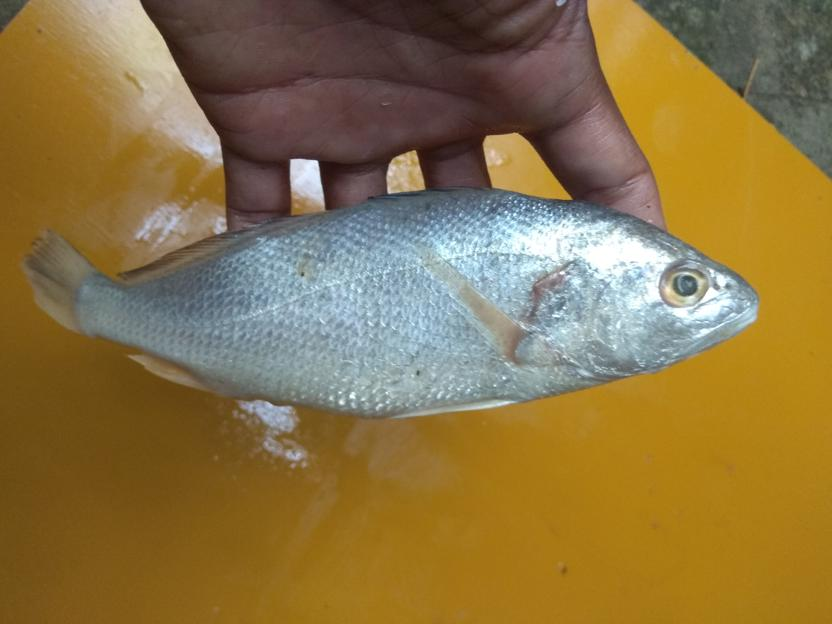Fish head: (534, 210, 761, 385)
Fish tail: (21, 224, 101, 337)
